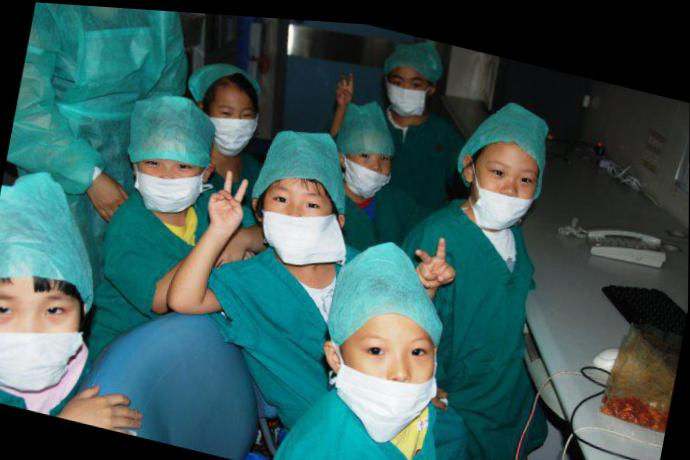OK: (1, 275, 95, 405), (208, 89, 269, 154), (386, 66, 433, 114)
WRONG: (332, 306, 450, 430), (256, 174, 338, 260), (466, 144, 542, 224), (128, 144, 205, 214), (336, 131, 398, 195)
